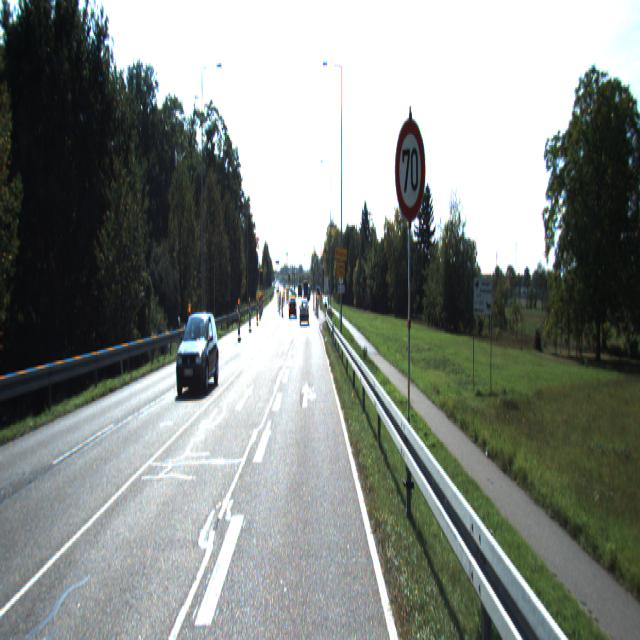Car: (176, 310, 220, 398), (300, 301, 309, 325)
